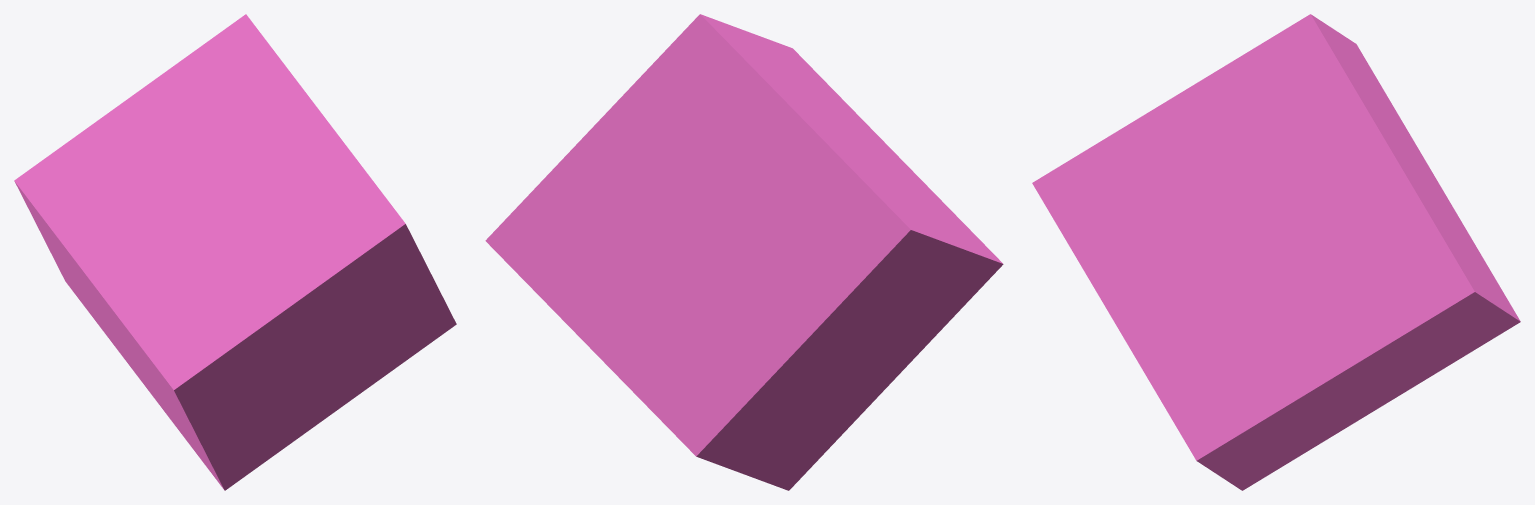
Rendered from InfoExpo_VivianMaier.gltf.
The picture shows the model from 3 angles, left to right: view 1: azimuth 30°, elevation 25°; view 2: azimuth 150°, elevation 25°; view 3: azimuth 270°, elevation 25°; orthographic projection. The views are drawn at different scales.
Parts seen in each view (by area): view 1: InfoExpo_VivianMaier; view 2: InfoExpo_VivianMaier; view 3: InfoExpo_VivianMaier.
Boxes of the visible parts, box(x1,y1,x2,y2) form: InfoExpo_VivianMaier: box(14, 14, 456, 490); InfoExpo_VivianMaier: box(485, 14, 1003, 490); InfoExpo_VivianMaier: box(1032, 14, 1520, 490).
Size of the model in its own units: 0.3224 by 0.3661 by 0.321.
